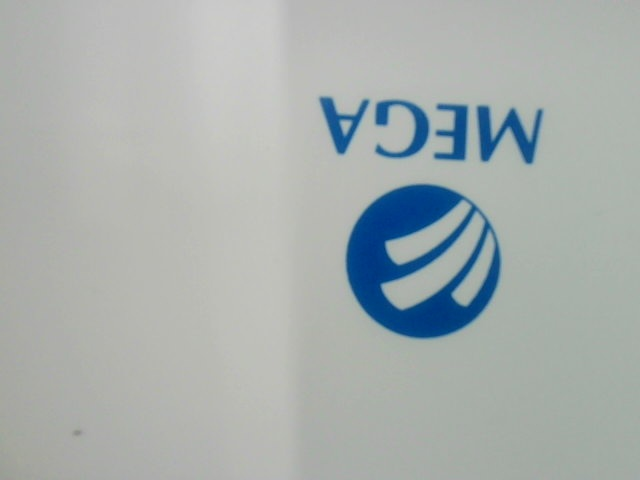AM_ZTEMEGA: (300, 83, 575, 342)
